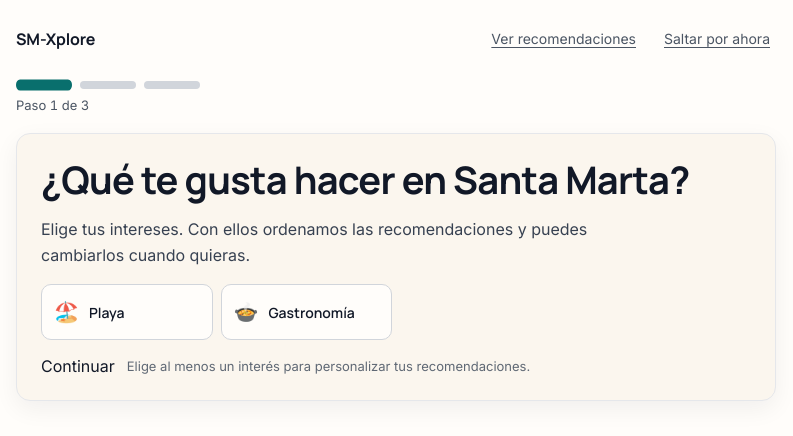
Test: OnboardingPage › si guardar falla no marca la cápsula y lo anuncia
The width and height of the screenshot is (793, 436).
Click the button "🍲 Gastronomía".
click(306, 312)  # box [220,284,392,340]
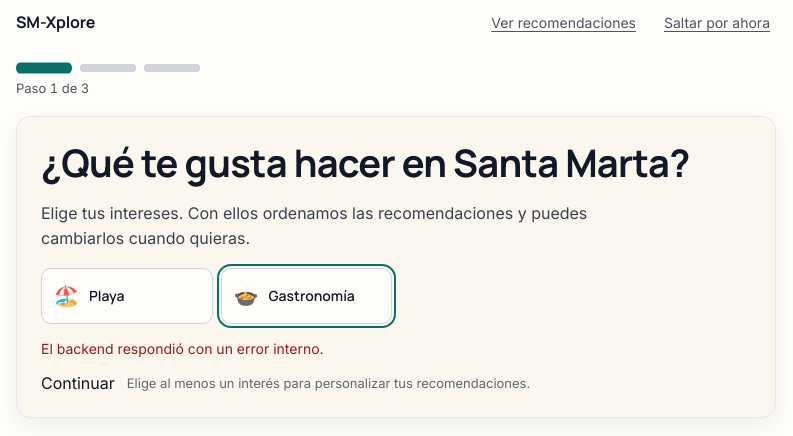
Expected: the message shows "error interno", [41,340,324,357]
